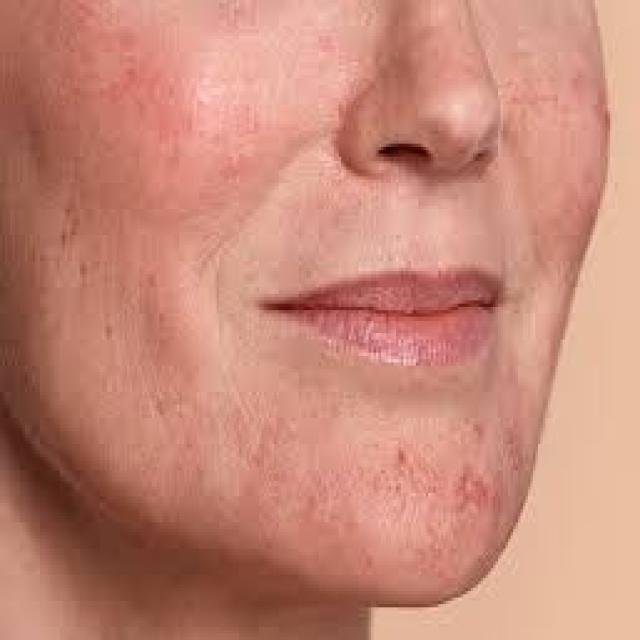Rosacea: (55, 31, 273, 397), (261, 428, 512, 580), (504, 60, 604, 284)
